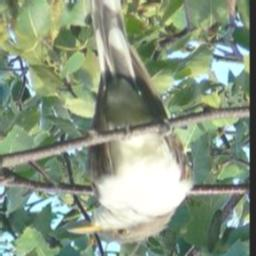Cuckoo: (67, 0, 193, 246)
